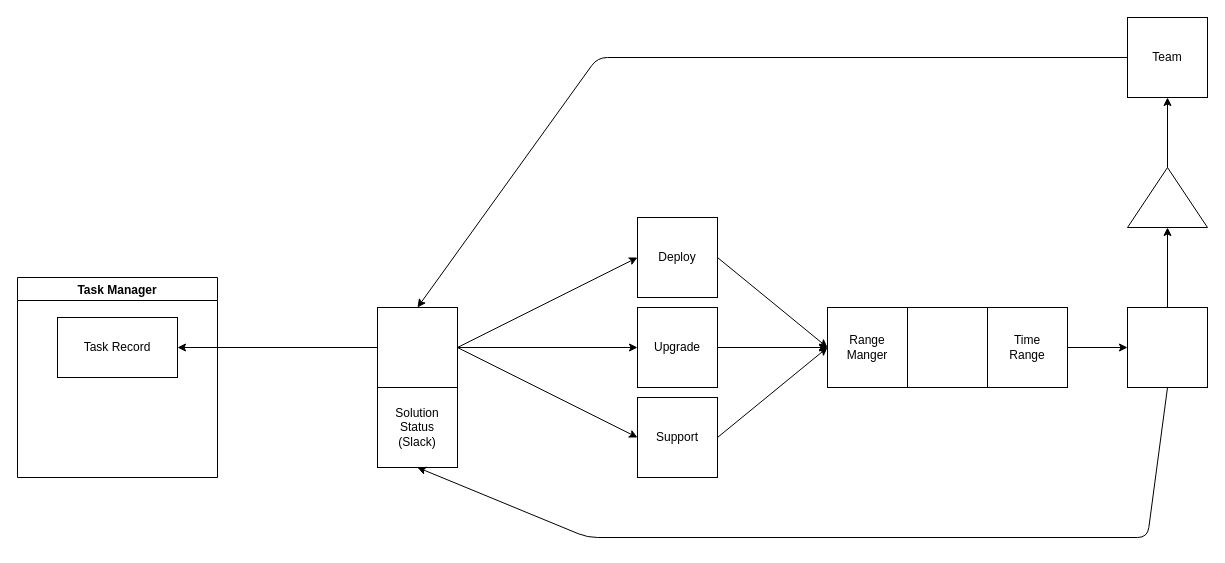
Image size: 1225x563. Some labels were removed from this diagram. Here are the shapes that lost their labels. From the top down, the centre of each, then its label:
point 1167,197: Obstacle
point 417,347: Task (Slack)
point 947,347: Technical Range
point 1167,347: Operator
